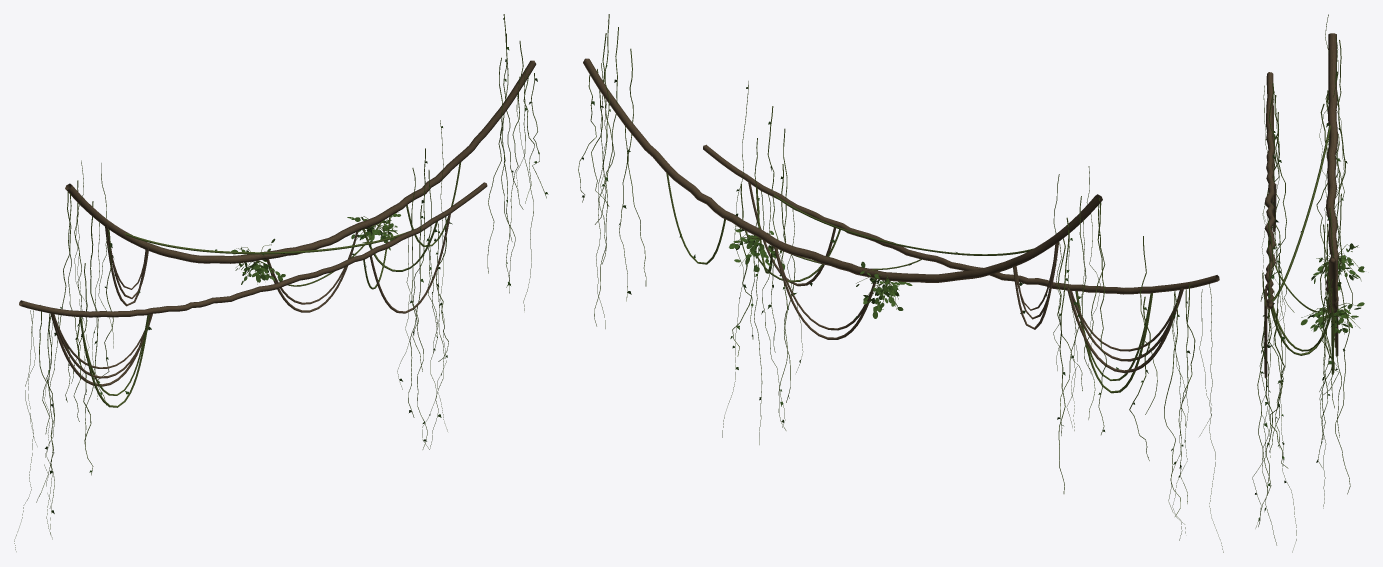
The model's file is liana_span_01_lod1.gltf.
3 renders of one model, left to right at view 1: azimuth 30°, elevation 25°; view 2: azimuth 150°, elevation 25°; view 3: azimuth 270°, elevation 25°, orthographic. The views are drawn at different scales.
Parts seen in each view (by area): view 1: liana_span_01; view 2: liana_span_01; view 3: liana_span_01.
Part boxes in pixels (<box>): liana_span_01: <box>14,14,548,551</box>; liana_span_01: <box>578,14,1223,552</box>; liana_span_01: <box>1252,14,1364,552</box>.
Bounding box in the file's own units: 10.8 × 7.18 × 1.87.
3 materials, 3 textured.
